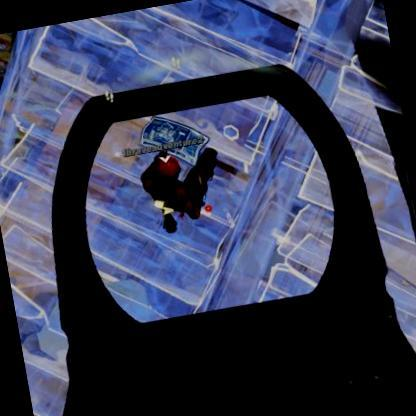person: (140, 144, 206, 211)
